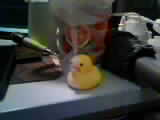duck: (58, 47, 108, 89)
